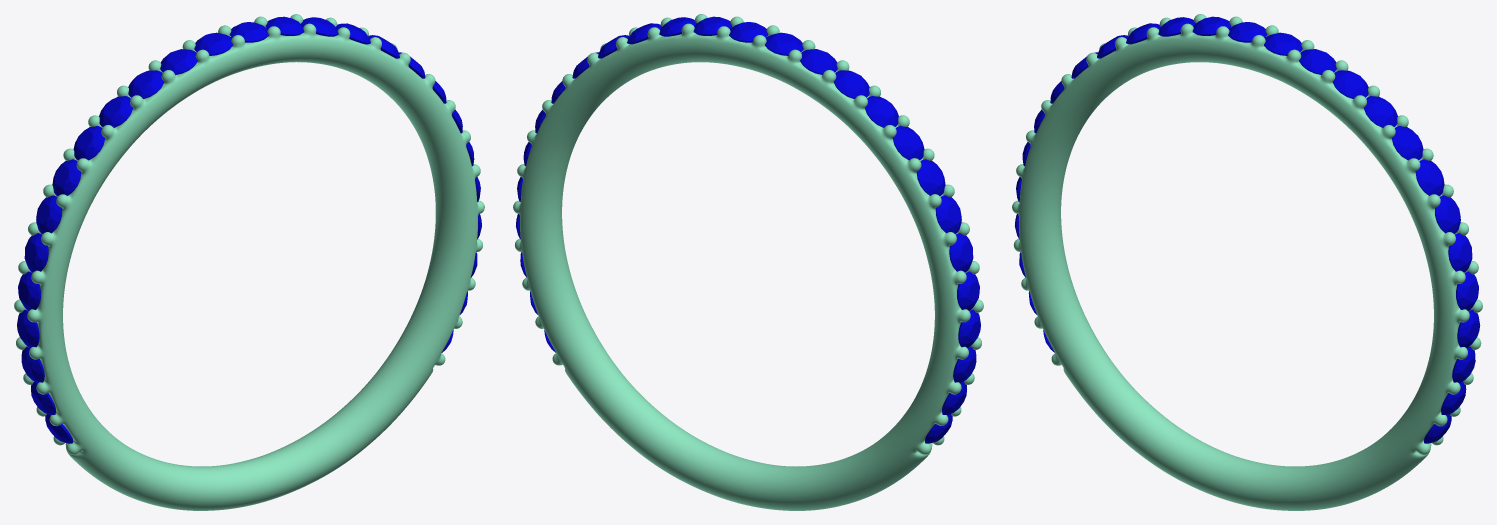
The picture shows the model from 3 angles, left to right: view 1: azimuth 30°, elevation 25°; view 2: azimuth 150°, elevation 25°; view 3: azimuth 330°, elevation 25°; orthographic projection.
Visible parts, largest first — view 1: Metal03, Diamond_Band.004, Diamond_Band.005, Diamond_Band.003, Diamond_Band.006, Diamond_Band.002, Diamond_Band.007, Diamond_Band.001, Diamond_Band.008, Diamond_Band, Diamond_Band.009, Diamond_Band.013 (+1 smaller); view 2: Metal03, Diamond_Band.004, Diamond_Band.005, Diamond_Band.003, Diamond_Band.006, Diamond_Band.002, Diamond_Band.007, Diamond_Band.001, Diamond_Band.008, Diamond_Band, Diamond_Band.009, Diamond_Band.013 (+1 smaller); view 3: Metal03, Diamond_Band.022, Diamond_Band.021, Diamond_Band.023, Diamond_Band.020, Diamond_Band.024, Diamond_Band.019, Diamond_Band.025, Diamond_Band.018, Diamond_Band.026, Diamond_Band.017, Diamond_Band.013 (+1 smaller).
Boxes of the visible parts, x1,y1,x2,y2 form: Metal03: [14, 14, 484, 510]; Diamond_Band.004: [73, 126, 105, 160]; Diamond_Band.005: [52, 159, 81, 195]; Diamond_Band.003: [99, 96, 132, 127]; Diamond_Band.006: [36, 195, 62, 233]; Diamond_Band.002: [128, 70, 164, 98]; Diamond_Band.007: [24, 233, 48, 272]; Diamond_Band.001: [160, 49, 197, 74]; Diamond_Band.008: [18, 271, 40, 310]; Diamond_Band: [194, 32, 232, 55]; Diamond_Band.009: [17, 310, 39, 347]; Diamond_Band.013: [229, 22, 268, 42]; Metal03: [513, 14, 983, 510]; Diamond_Band.004: [892, 125, 924, 160]; Diamond_Band.005: [916, 159, 945, 195]; Diamond_Band.003: [865, 96, 898, 127]; Diamond_Band.006: [935, 195, 961, 233]; Diamond_Band.002: [833, 70, 869, 98]; Diamond_Band.007: [949, 233, 973, 272]; Diamond_Band.001: [800, 49, 837, 74]; Diamond_Band.008: [957, 271, 979, 310]; Diamond_Band: [765, 32, 803, 55]; Diamond_Band.009: [958, 310, 980, 347]; Diamond_Band.013: [729, 22, 768, 42]; Metal03: [1012, 14, 1482, 510]; Diamond_Band.022: [1391, 126, 1423, 160]; Diamond_Band.021: [1415, 159, 1444, 196]; Diamond_Band.023: [1364, 96, 1397, 127]; Diamond_Band.020: [1435, 195, 1460, 233]; Diamond_Band.024: [1332, 70, 1368, 98]; Diamond_Band.019: [1448, 233, 1472, 272]; Diamond_Band.025: [1299, 49, 1336, 74]; Diamond_Band.018: [1456, 271, 1478, 310]; Diamond_Band.026: [1264, 32, 1302, 55]; Diamond_Band.017: [1457, 310, 1480, 348]; Diamond_Band.013: [1228, 22, 1267, 42].
Bounding box in the file's own units: 20.85 × 20.83 × 1.89.
